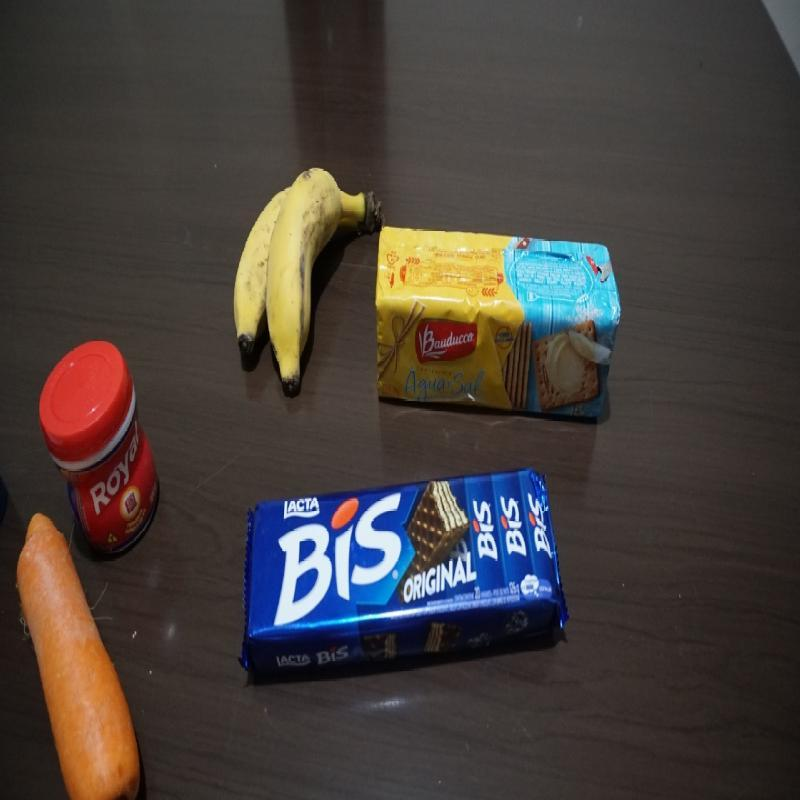Banana: (232, 165, 391, 397)
Carrot: (16, 509, 143, 799)
Cracker: (371, 226, 622, 426)
Yeast: (36, 339, 164, 557)
